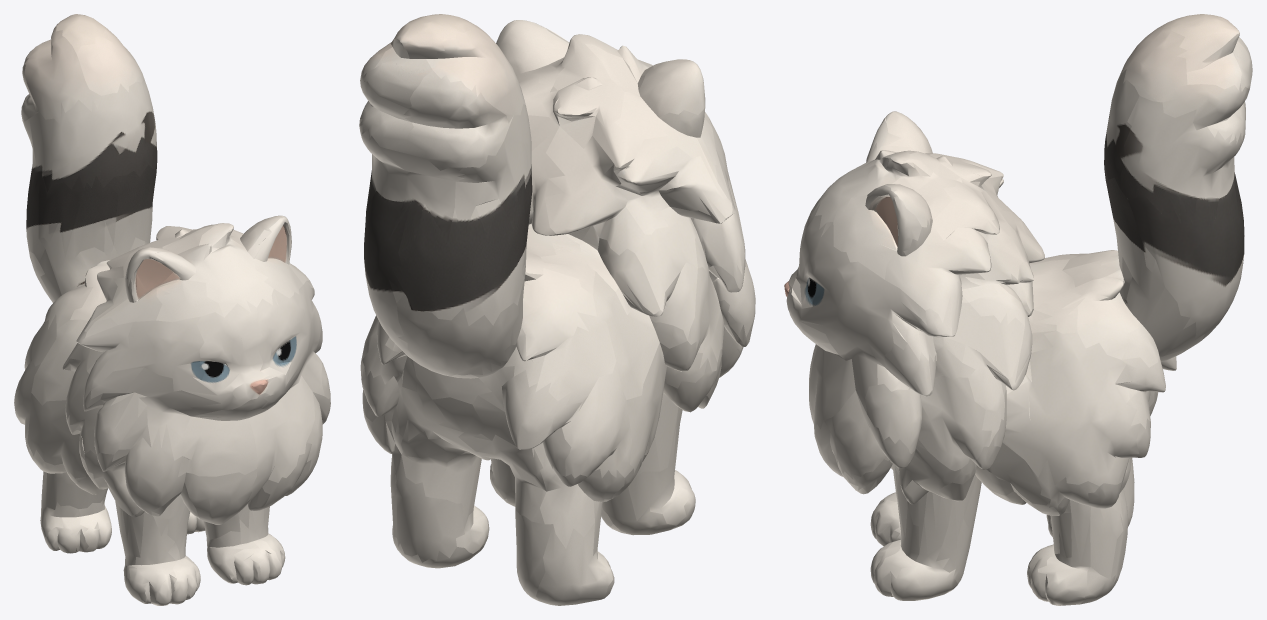
The picture shows the model from 3 angles, left to right: view 1: azimuth 30°, elevation 25°; view 2: azimuth 150°, elevation 25°; view 3: azimuth 270°, elevation 25°; orthographic projection. The views are drawn at different scales.
Size of the model in its own units: 1.01 by 1.9 by 1.48.
1 material, 1 textured.
